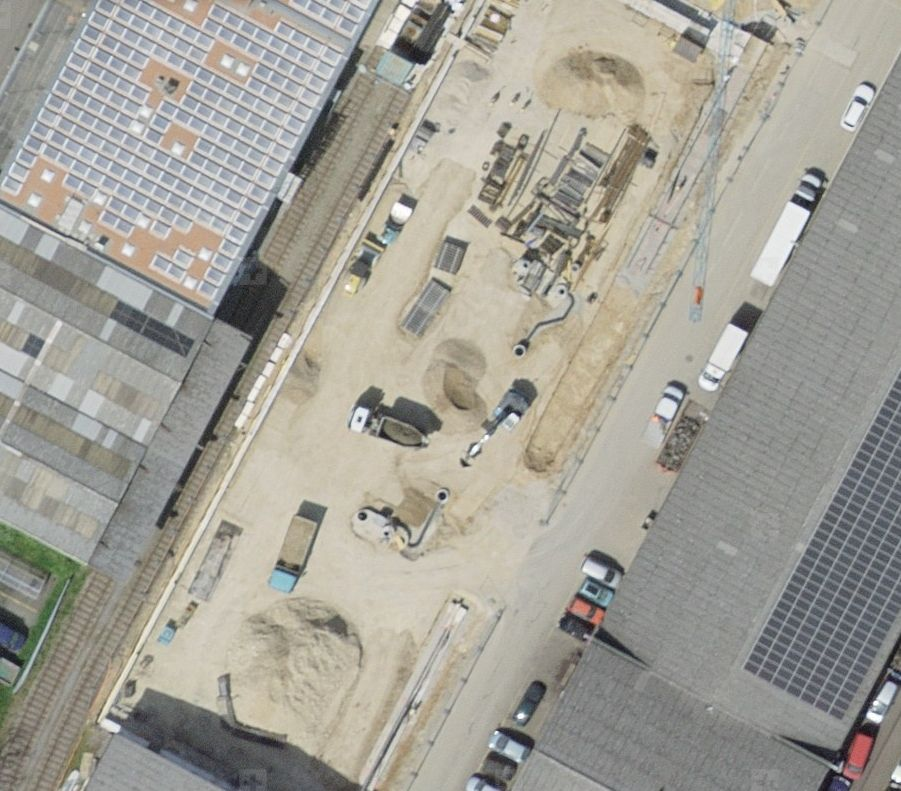solar: (1, 1, 374, 303), (744, 367, 901, 721)
